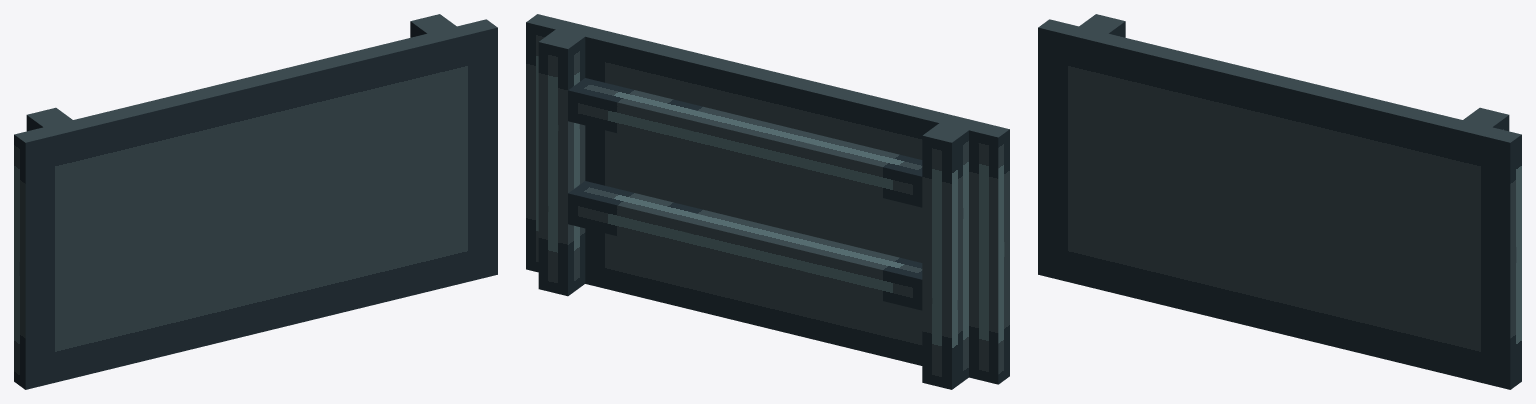
File: lightarray.gltf
The picture shows the model from 3 angles, left to right: view 1: azimuth 30°, elevation 25°; view 2: azimuth 150°, elevation 25°; view 3: azimuth 330°, elevation 25°; orthographic projection.
Parts seen in each view (by area): view 1: cube (×3); view 2: cube (×5); view 3: cube (×3).
Part boxes in pixels (x1,y1,x2,y2): cube (×3): [14, 14, 497, 389]; cube (×5): [526, 14, 1009, 389]; cube (×3): [1038, 14, 1521, 389].
Bounding box in the file's own units: 3 × 1.5 × 0.3125.
1 material, 1 textured.
